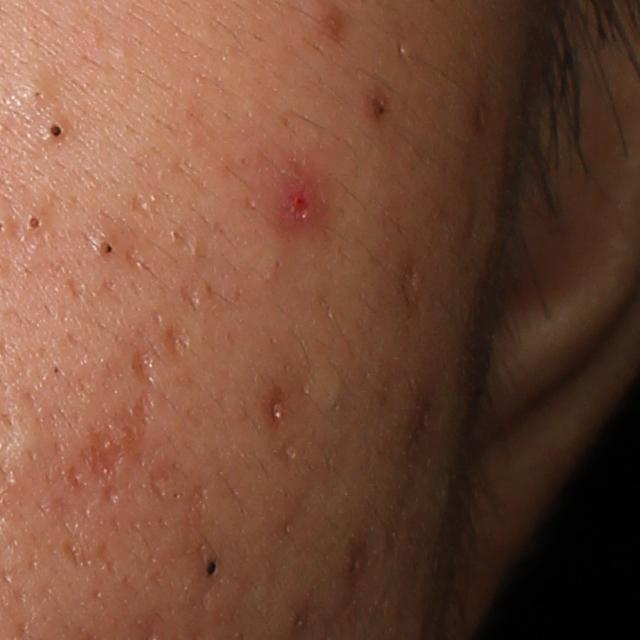atrophic_scar: (49, 494, 117, 581), (394, 365, 446, 472), (383, 460, 429, 559), (117, 389, 150, 469), (81, 421, 119, 485), (132, 341, 162, 390), (398, 258, 424, 310), (163, 319, 191, 362), (177, 277, 206, 318), (60, 465, 89, 494), (265, 385, 286, 425), (126, 240, 147, 276), (99, 483, 122, 505)
comedo: (29, 82, 50, 107), (22, 215, 50, 233)
papule: (271, 177, 319, 223)
